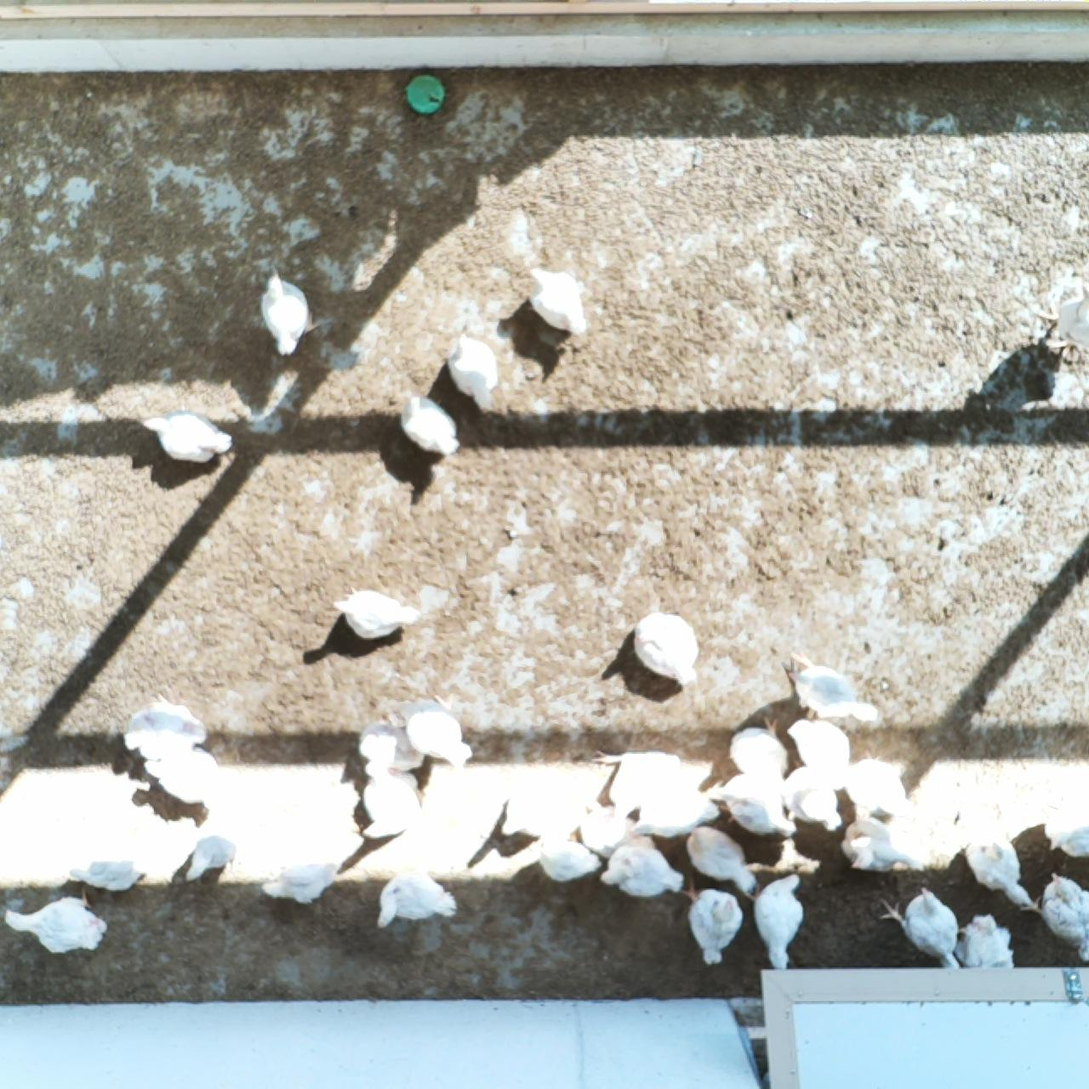chicken: (589, 744, 714, 812), (875, 885, 965, 972), (781, 649, 883, 724), (960, 821, 1040, 909), (1, 893, 110, 957), (392, 691, 478, 770), (1018, 869, 1089, 963), (374, 856, 462, 931), (119, 690, 210, 762), (744, 871, 808, 973), (708, 771, 801, 840), (258, 266, 324, 362), (678, 873, 744, 969), (141, 748, 233, 815), (630, 609, 704, 690), (598, 835, 686, 903), (134, 409, 235, 467), (332, 583, 423, 644), (686, 824, 760, 899), (523, 261, 592, 338), (841, 817, 929, 877), (841, 756, 922, 821), (782, 712, 856, 783), (498, 781, 589, 838), (630, 784, 723, 839), (442, 333, 505, 413), (359, 768, 428, 841), (1035, 774, 1089, 862), (396, 388, 463, 458), (254, 854, 342, 907), (725, 713, 792, 780), (355, 713, 431, 771), (781, 764, 844, 833), (181, 816, 241, 884), (955, 909, 1018, 972), (68, 854, 151, 899), (537, 836, 602, 885)
